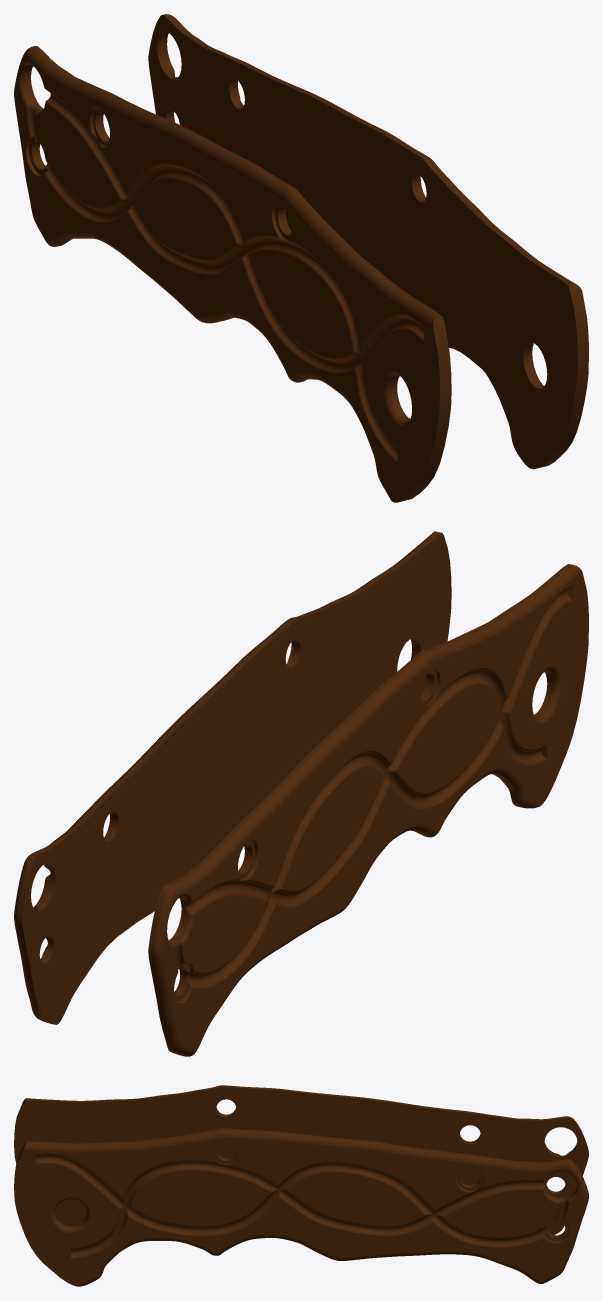
File: nakladka_boker.glb
3 renders of one model, top to bottom at view 1: azimuth 30°, elevation 25°; view 2: azimuth 150°, elevation 25°; view 3: azimuth 270°, elevation 25°, orthographic. The views are drawn at different scales.
Parts seen in each view (by area): view 1: nakladka; view 2: nakladka; view 3: nakladka.
Part boxes in pixels (x1,y1,x2,y2): nakladka: (14,14,588,502); nakladka: (14,531,588,1056); nakladka: (14,1085,588,1286).
Size of the model in its own units: 2.33 by 3.46 by 11.65.
